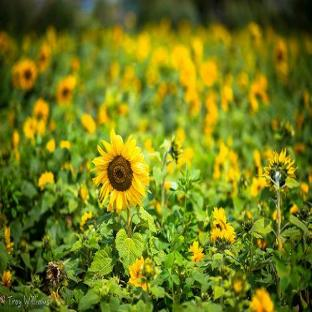sunflower: (89, 129, 151, 215)
